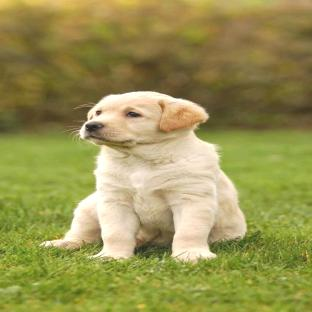Animal: (41, 91, 247, 262)
